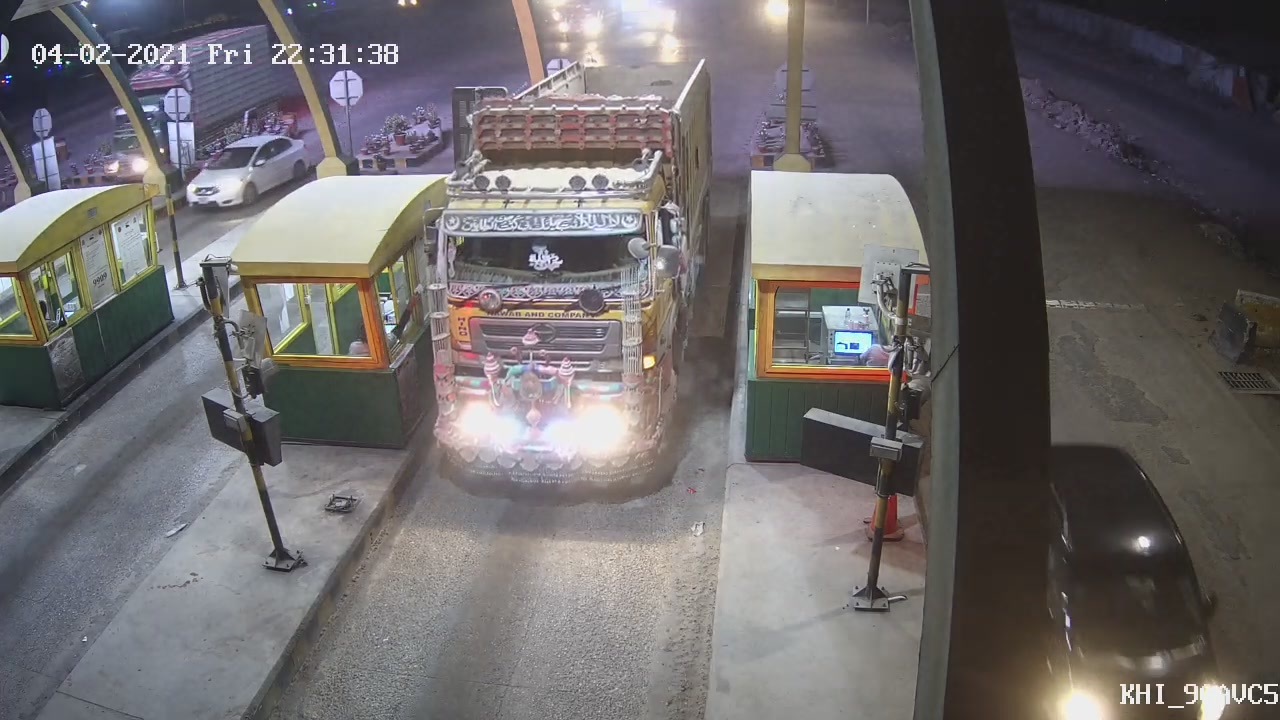F5: (423, 37, 731, 493)
